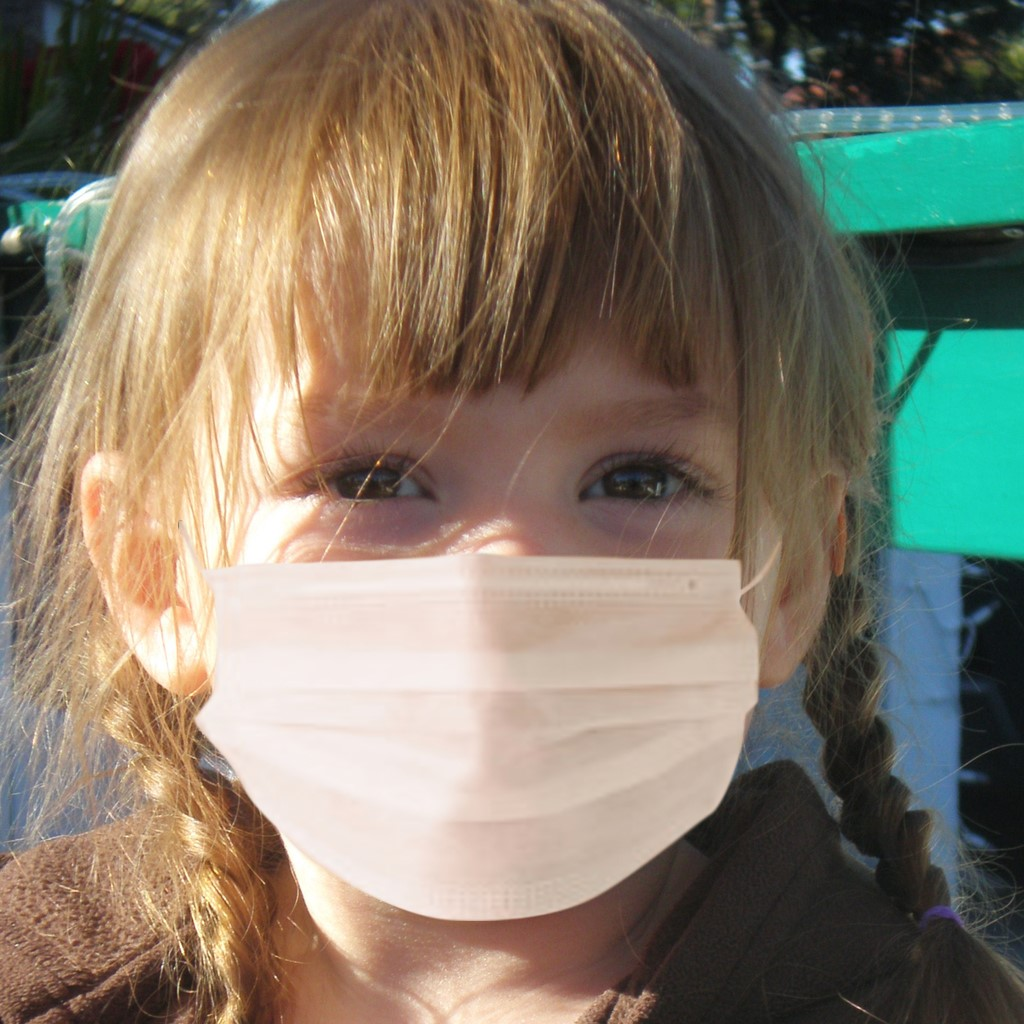con_mascara: (174, 264, 790, 931)
